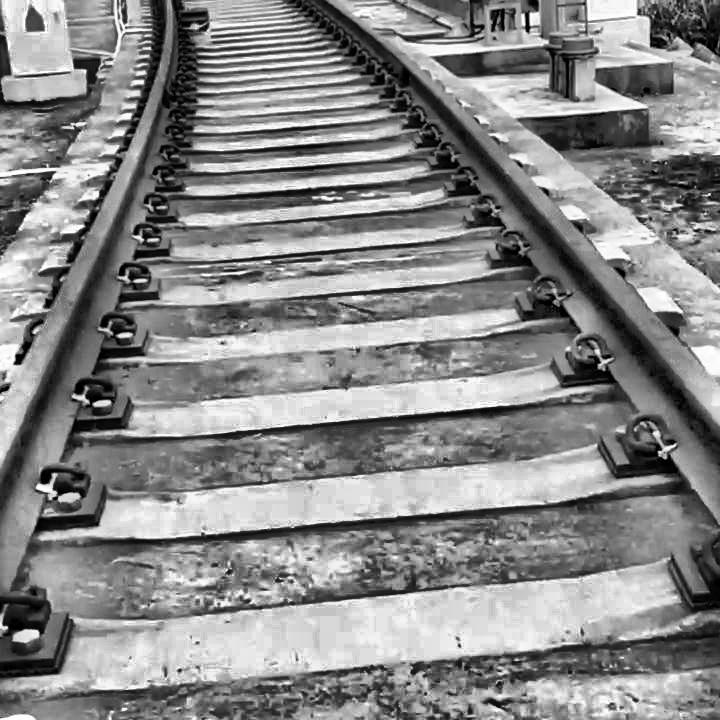Trash: (175, 4, 215, 47), (0, 710, 52, 720)
